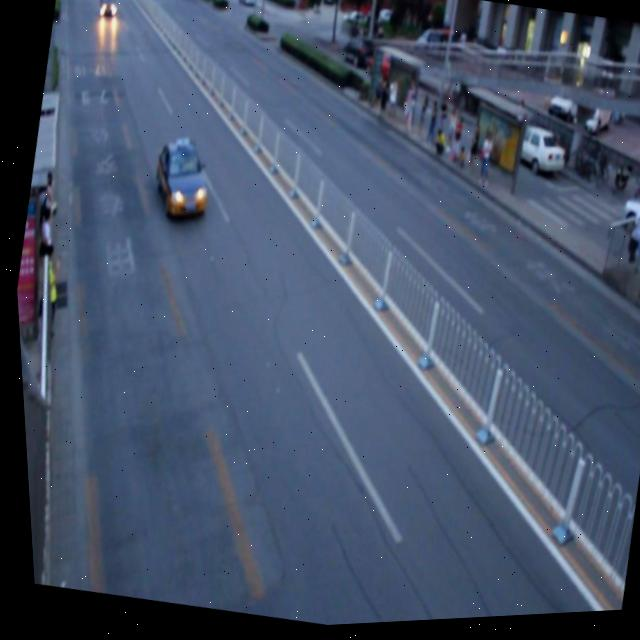car: (143, 135, 218, 228)
